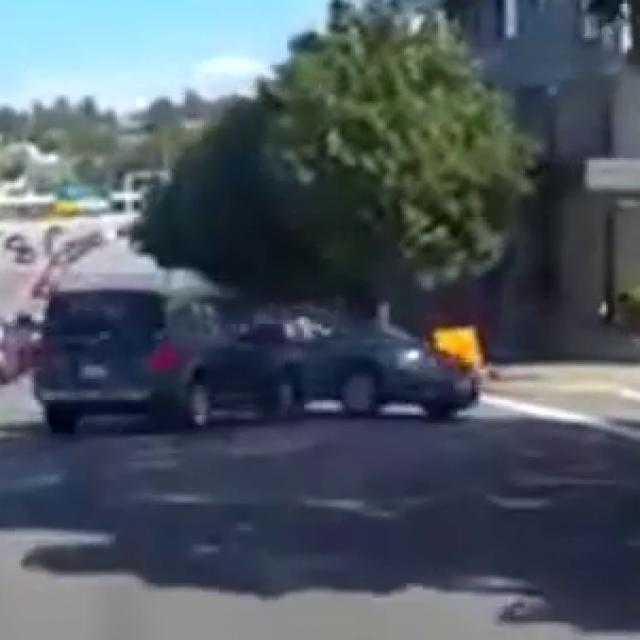accident: (68, 282, 480, 440)
